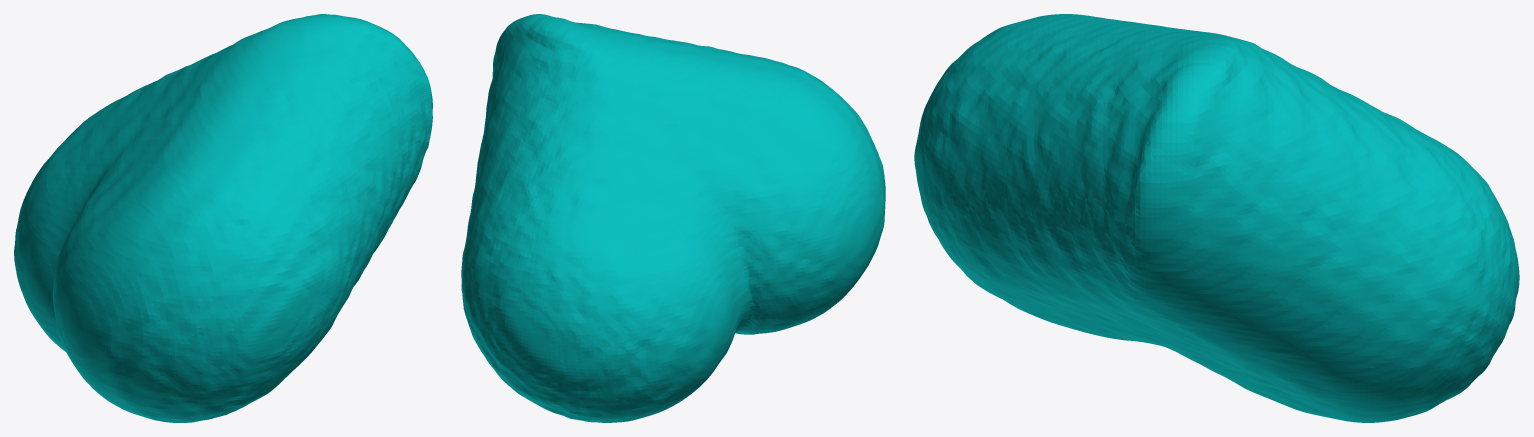
3 renders of one model, left to right at view 1: azimuth 30°, elevation 25°; view 2: azimuth 150°, elevation 25°; view 3: azimuth 270°, elevation 25°, orthographic. The views are drawn at different scales.
Bounding box in the file's own units: 0.8318 × 0.743 × 0.963.
